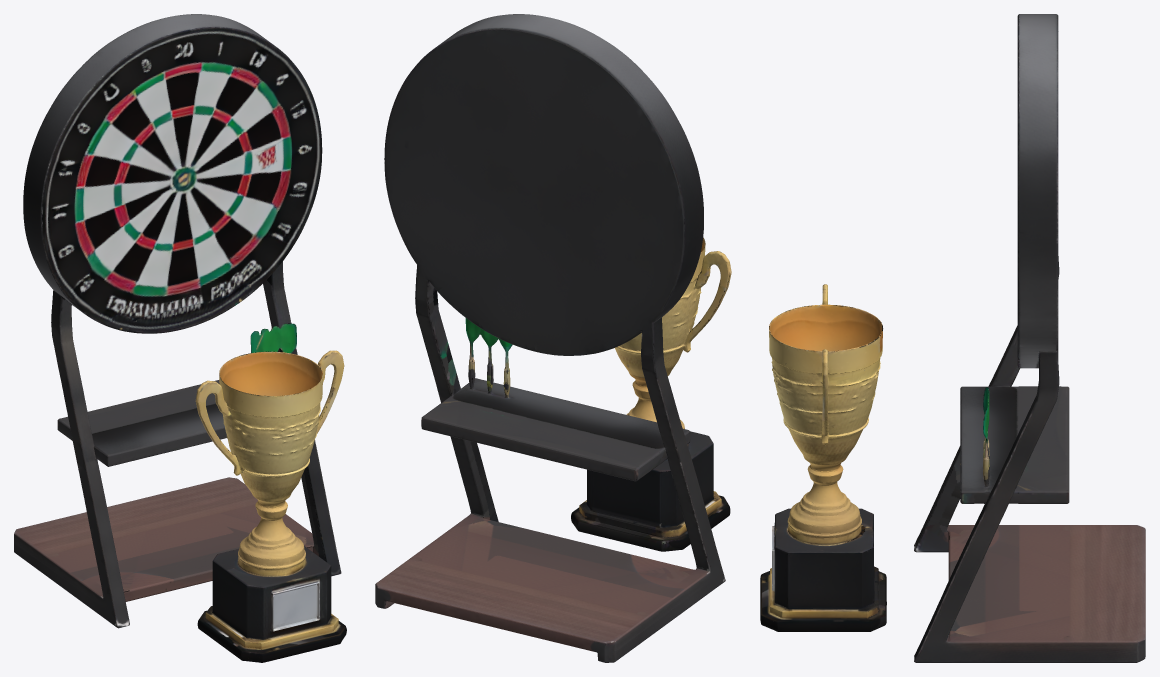
Rendered from base_basic_pbr.glb.
3 renders of one model, left to right at view 1: azimuth 30°, elevation 25°; view 2: azimuth 150°, elevation 25°; view 3: azimuth 270°, elevation 25°, orthographic. The views are drawn at different scales.
Visible parts, largest first — view 1: model; view 2: model; view 3: model.
Part boxes in pixels (left/top/right/bottom): model: left=14, top=14, right=346, bottom=662; model: left=375, top=14, right=731, bottom=662; model: left=760, top=14, right=1145, bottom=662.
Size of the model in its own units: 1.05 by 1.9 by 1.15.
Materials: 1 (1 with a texture image).
